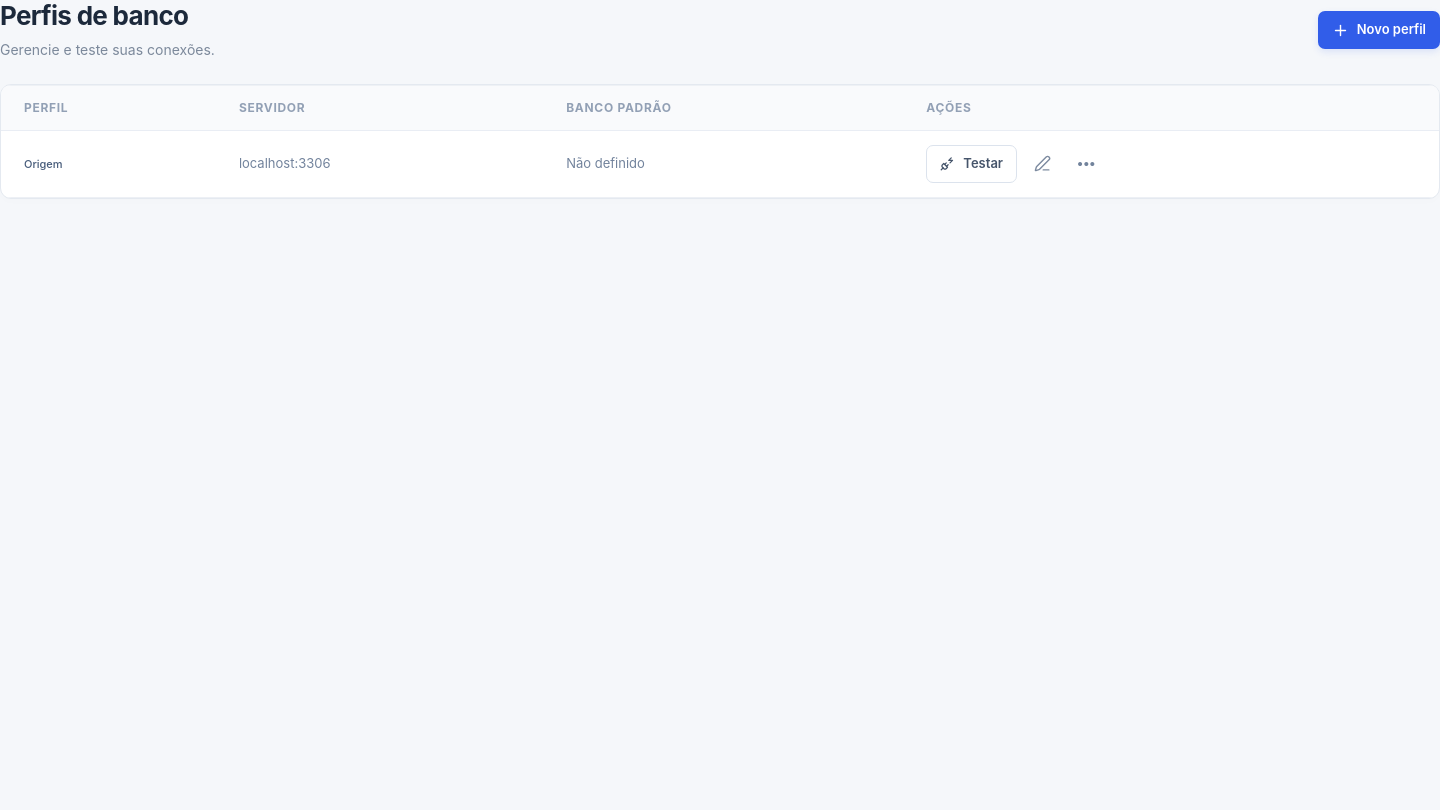
Test: seleções nomeadas do perfil › reabre seleções recebidas do backend sem consultar automaticamente
Click the button named "Mais ações de Origem". click: (1086, 163)
box: 1077,155 -> 1096,171
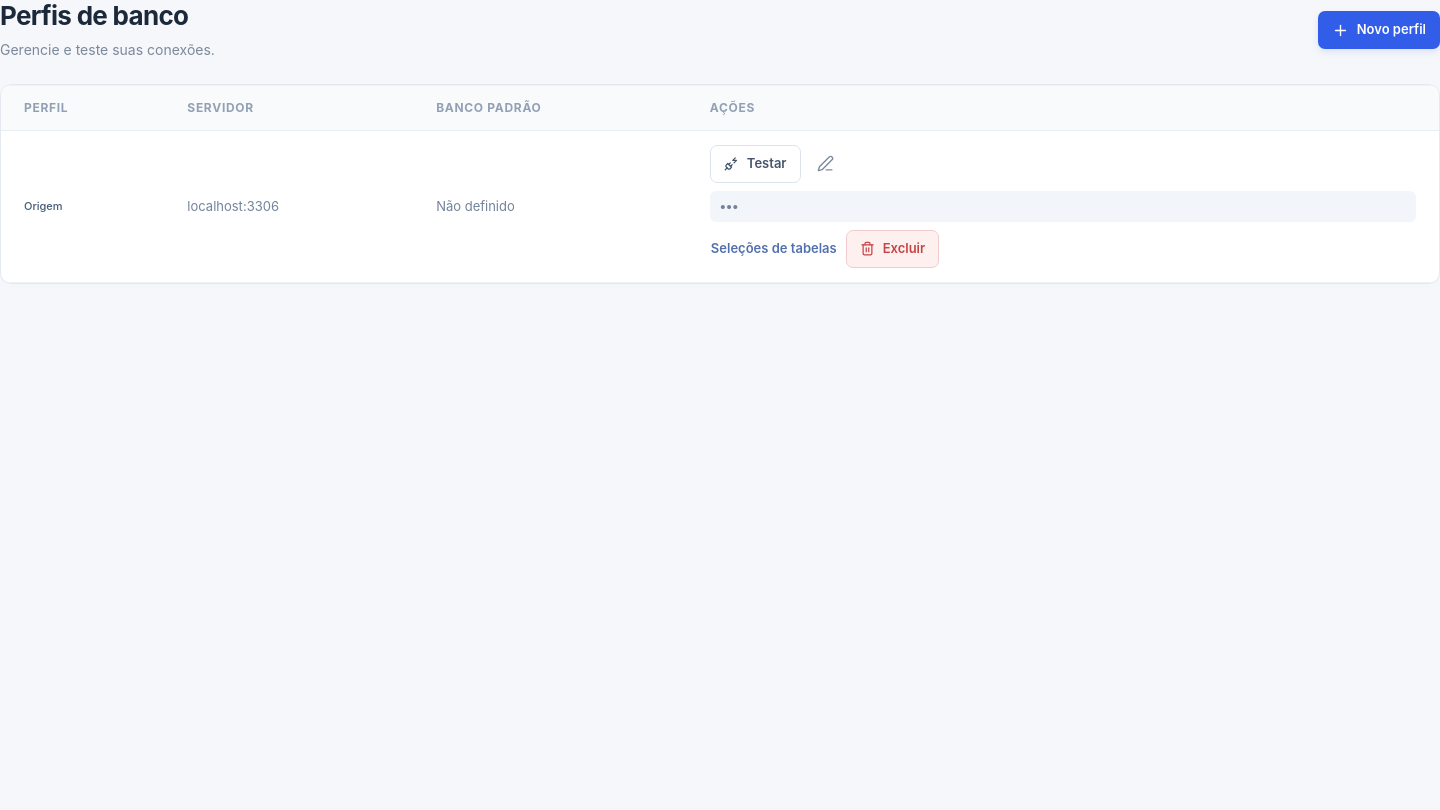
Click the button "Seleções de tabelas". click: (774, 249)
box: 710,230 -> 838,268
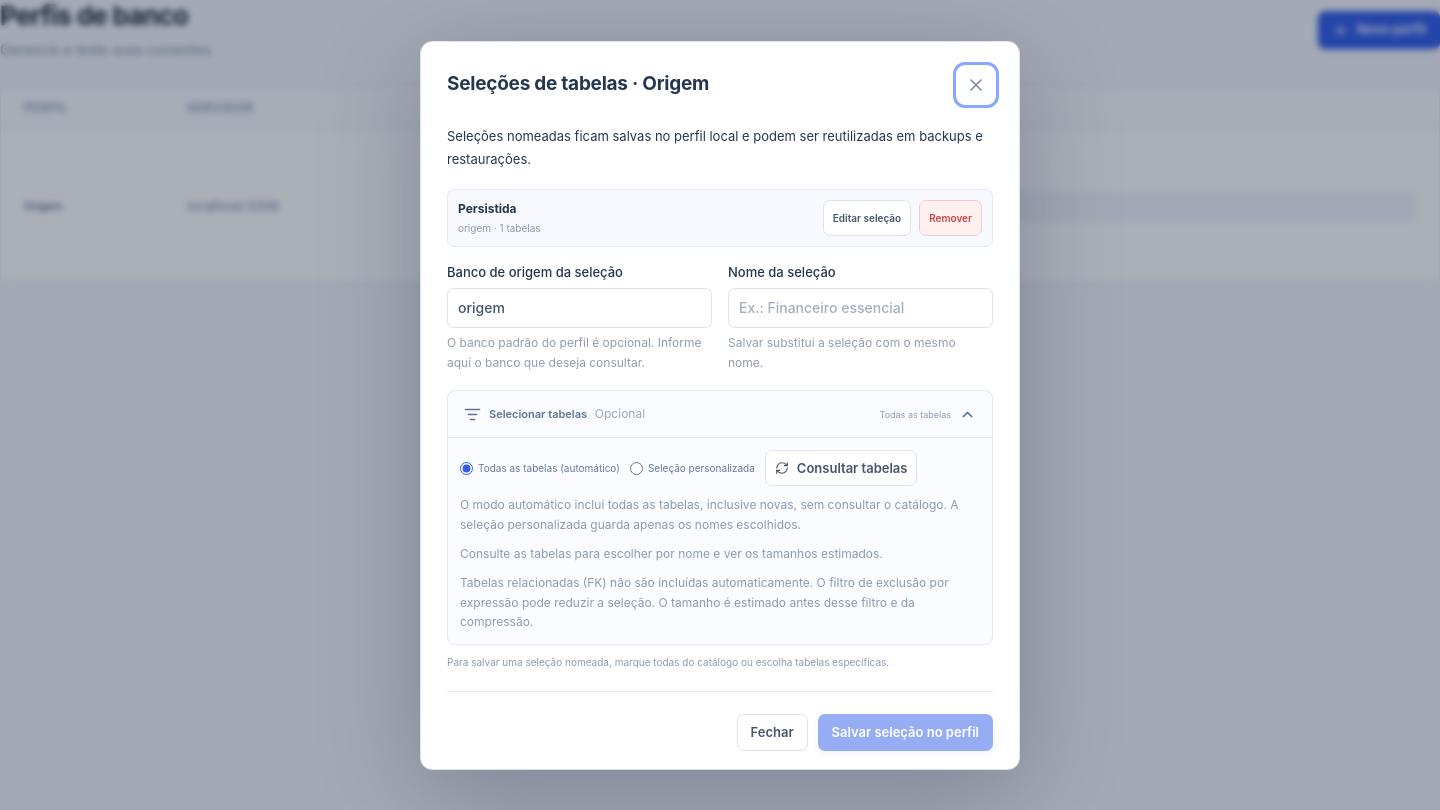
Check: the text "Persistida" is shown, box 458,201 -> 517,216
Check: the field labelled "Banco de origem da seleção" holds "origem", box 447,288 -> 712,328
